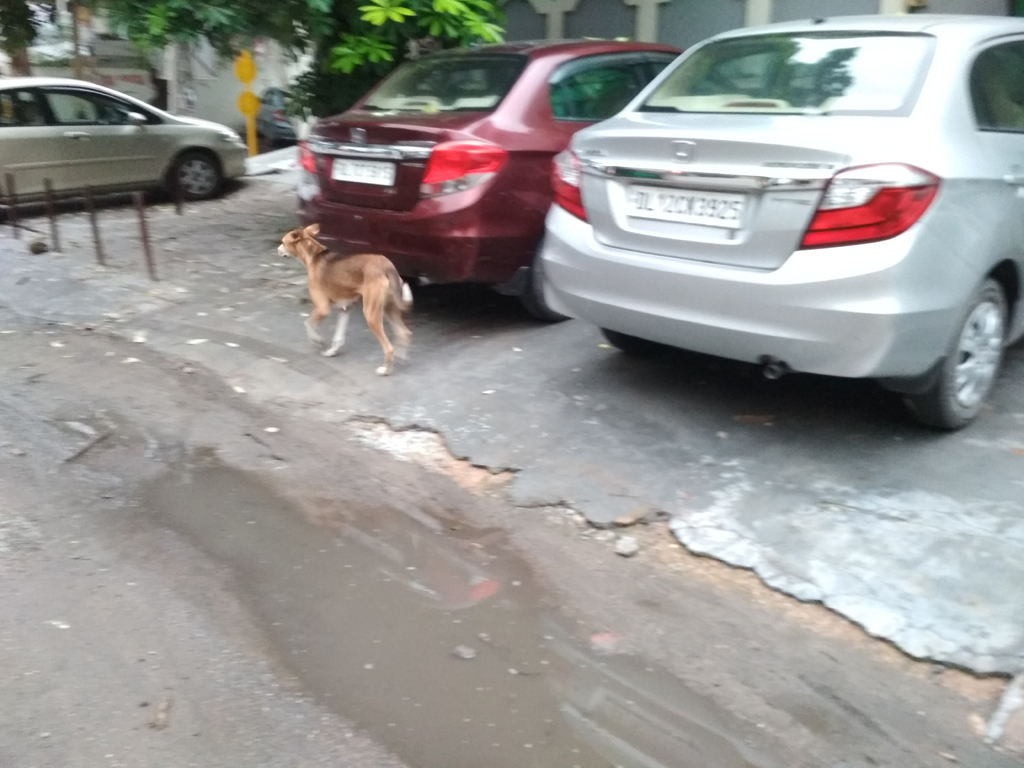dog: (276, 222, 412, 375)
